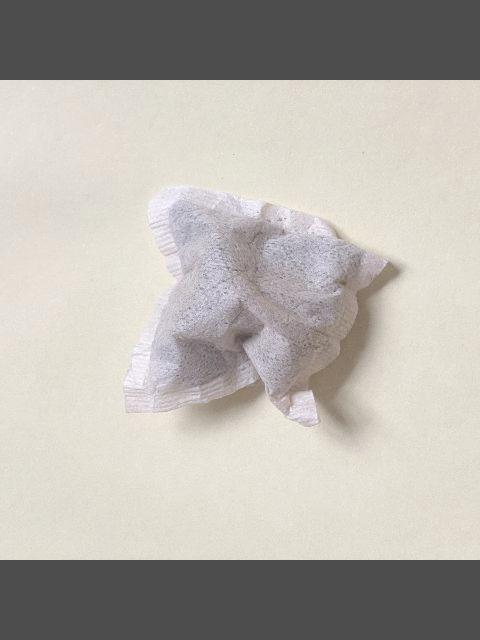teabag: (119, 185, 391, 428)
